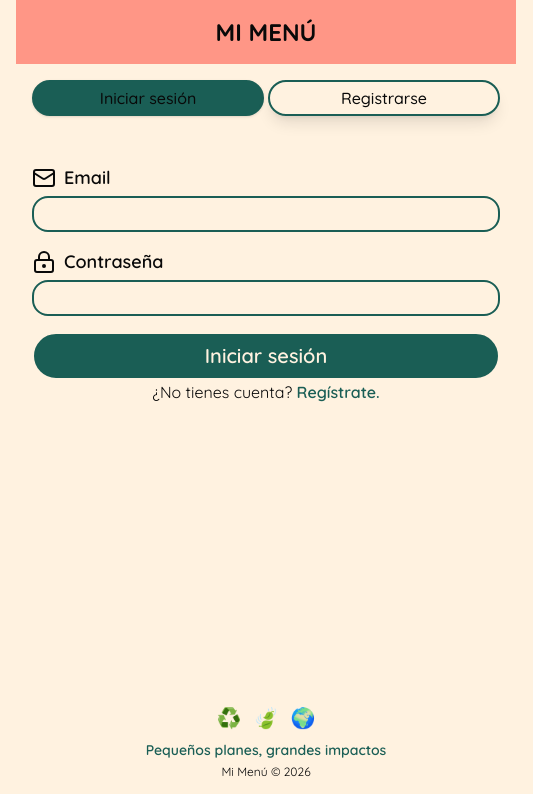
it: Given the AuthPage › When it renders › And the user clicks on the 'Registrarse' tab › Then it should show the register form
The width and height of the screenshot is (533, 794).
Click the tab "Registrarse".
click(384, 98)  # box x1=268 y1=80 x2=500 y2=116
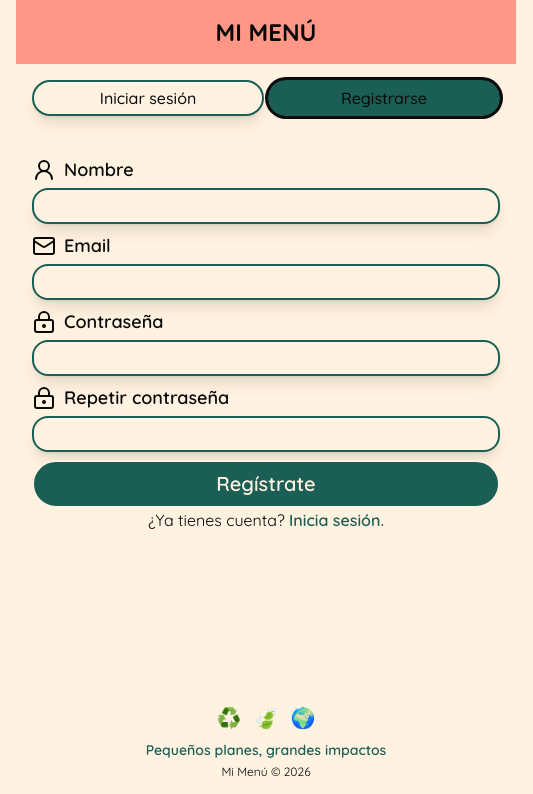
Expected: the field labelled "Nombre" is shown, x1=32 y1=188 x2=500 y2=224
